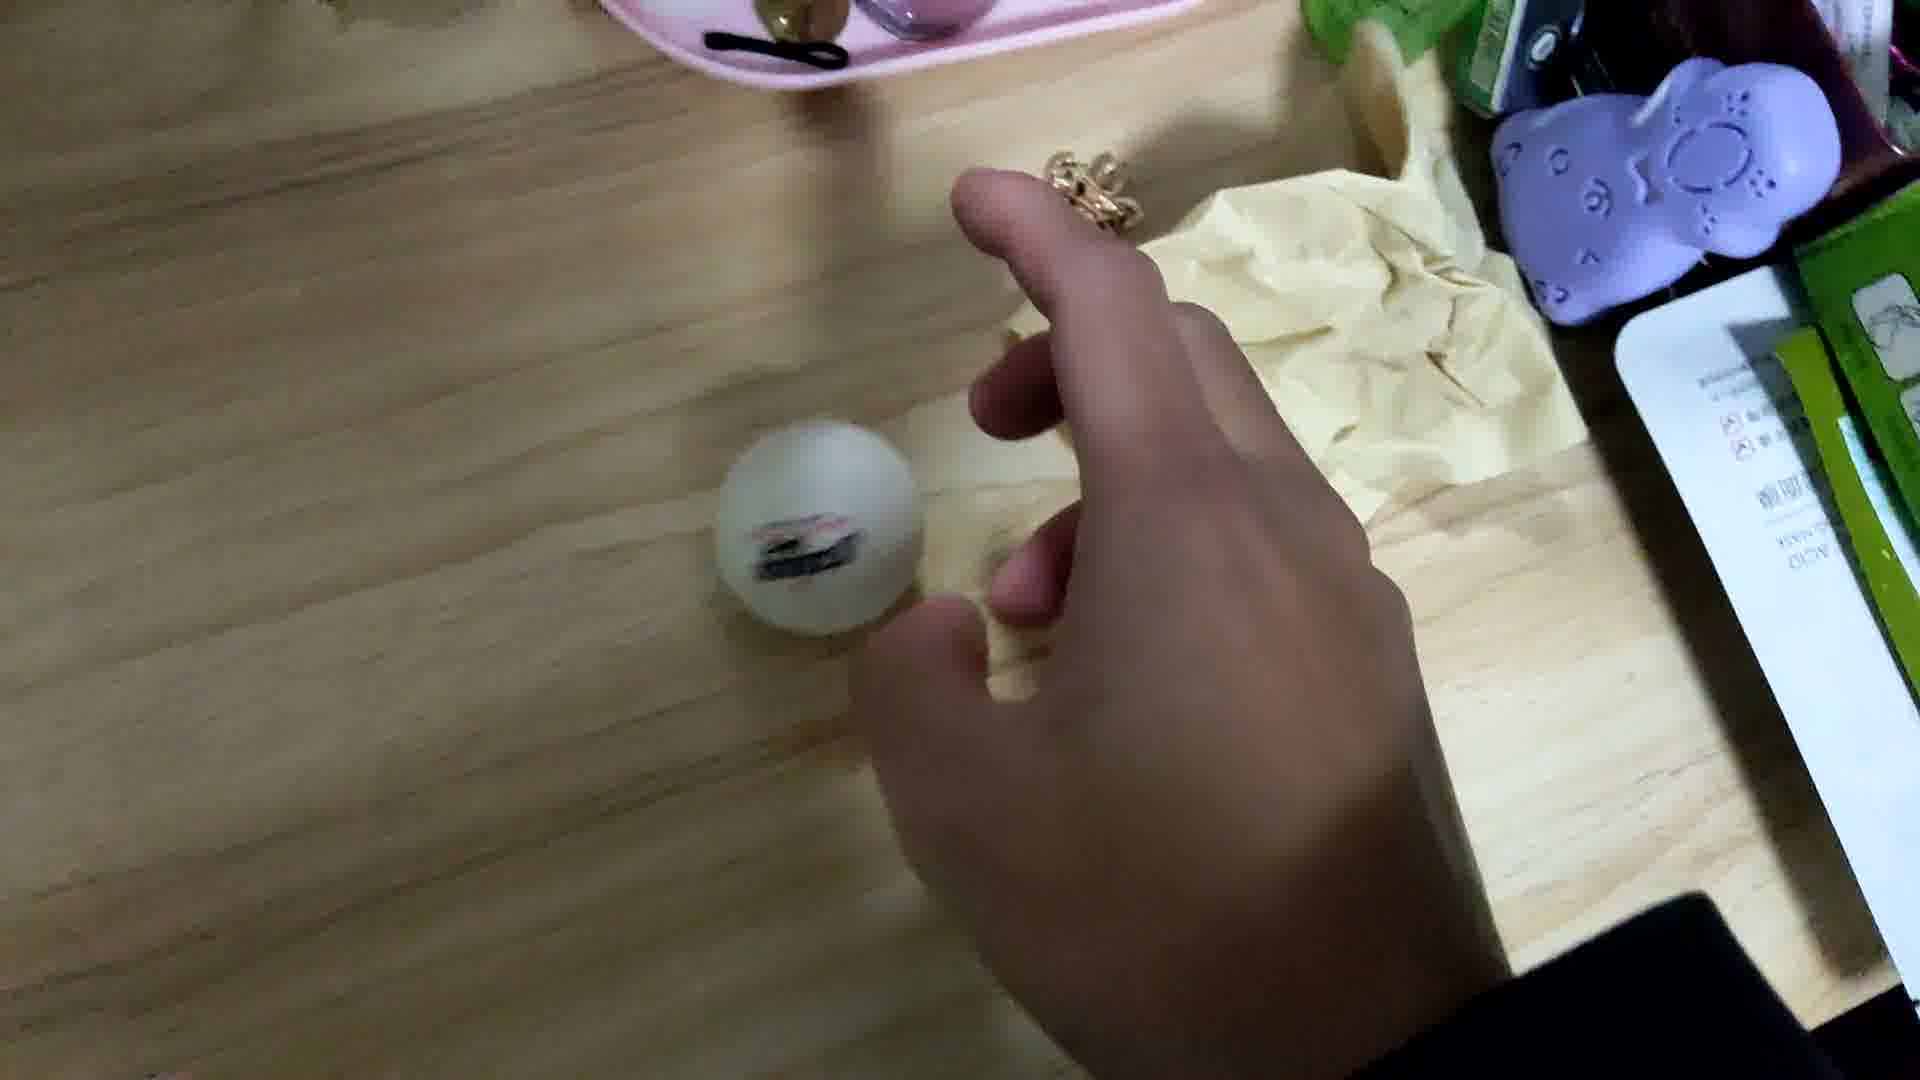Ball: (709, 419, 930, 637)
